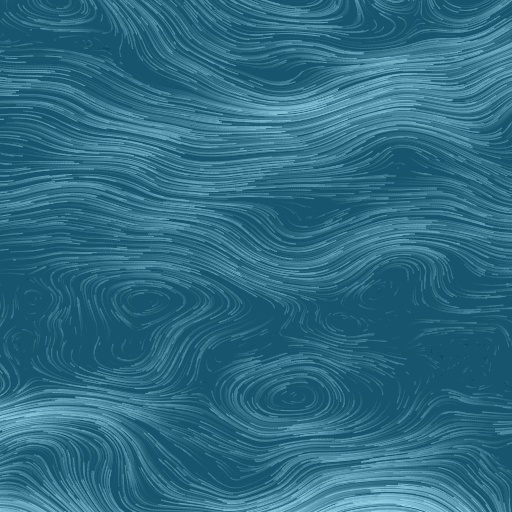eddy: (237, 362, 346, 427), (104, 276, 186, 328), (319, 308, 369, 338)
